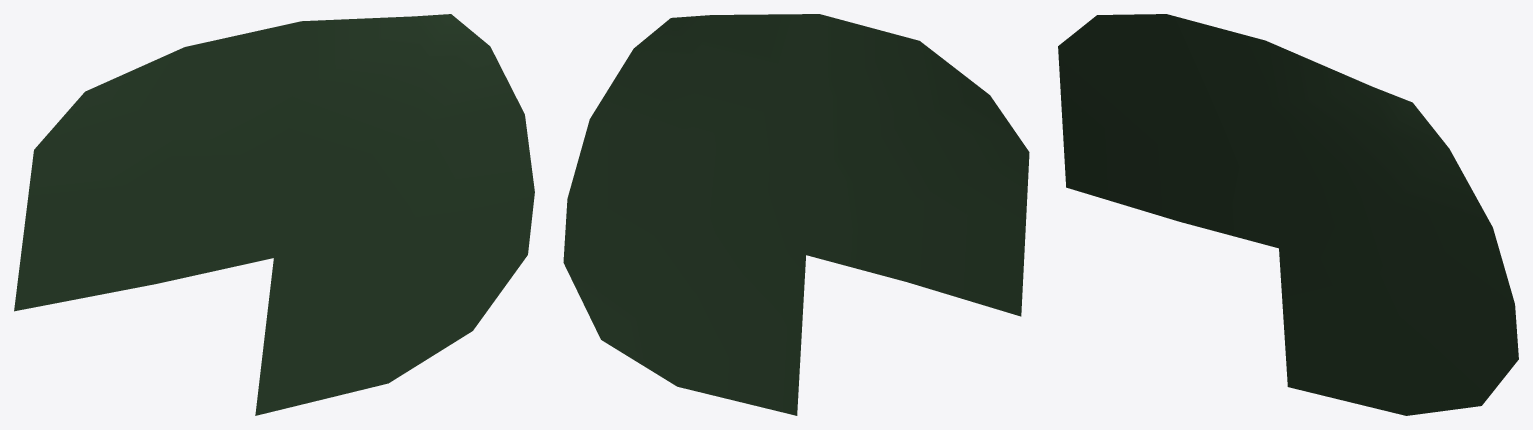
The model's file is SM_ocean_scatterPlant_04.fbx.
3 views of the same model, side by side, from view 1: azimuth 30°, elevation 25°; view 2: azimuth 150°, elevation 25°; view 3: azimuth 330°, elevation 25° (orthographic). The views are drawn at different scales.
Parts seen in each view (by area): view 1: SM_ocean_scatterPlant_04_LOD0; view 2: SM_ocean_scatterPlant_04_LOD0; view 3: SM_ocean_scatterPlant_04_LOD0.
Boxes of the visible parts, left/top/right/bottom form: SM_ocean_scatterPlant_04_LOD0: left=14, top=14, right=534, bottom=415; SM_ocean_scatterPlant_04_LOD0: left=563, top=14, right=1029, bottom=415; SM_ocean_scatterPlant_04_LOD0: left=1058, top=14, right=1518, bottom=415.
Size of what is drawn, in the model's own units: 27.91 by 3.38 by 21.75.
